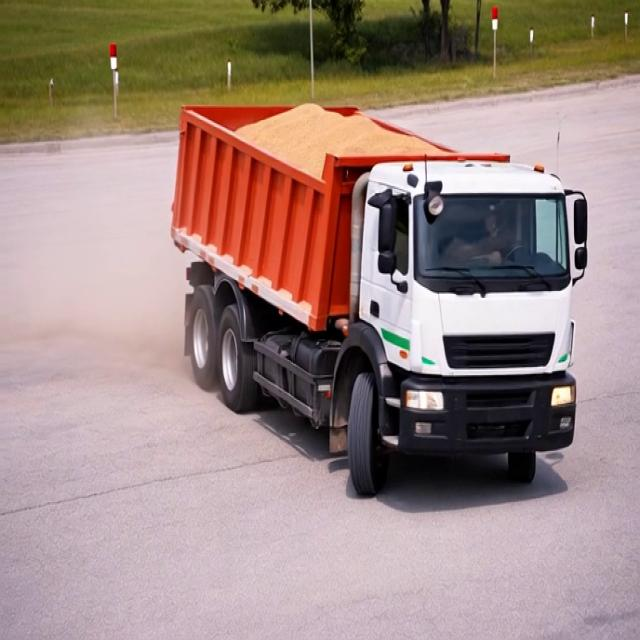trailer: (180, 99, 512, 177)
truck: (167, 60, 590, 508)
